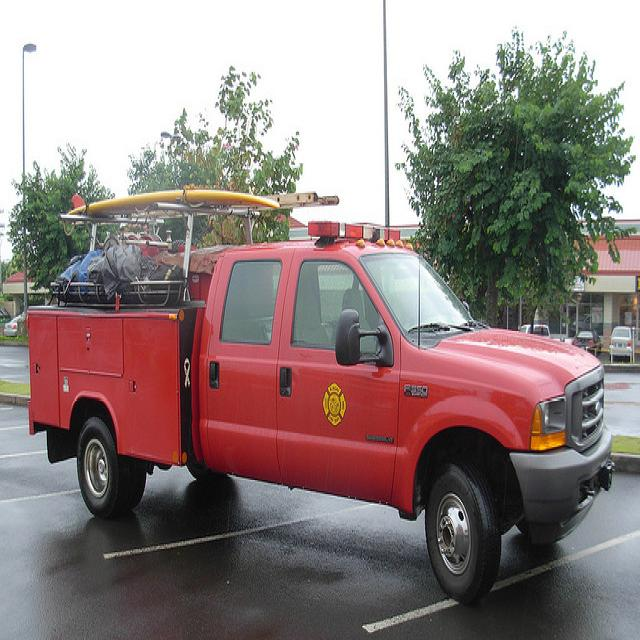Vehicle: (23, 187, 615, 612), (606, 324, 634, 362), (572, 329, 602, 354), (4, 315, 21, 337), (535, 324, 551, 340), (518, 325, 533, 333)
